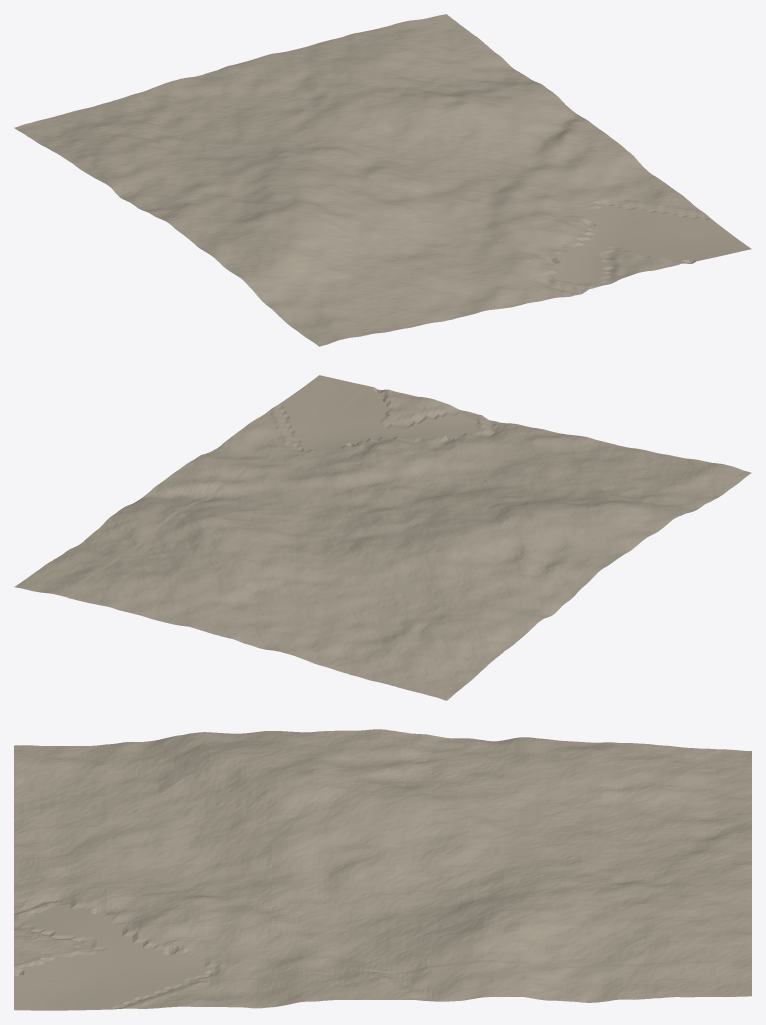
Rendered from reference-terrain-model.glb.
3 views of the same model, one above another, from view 1: azimuth 30°, elevation 25°; view 2: azimuth 150°, elevation 25°; view 3: azimuth 270°, elevation 25° (orthographic). The views are drawn at different scales.
Visible parts, largest first — view 1: canberra-reference-model; view 2: canberra-reference-model; view 3: canberra-reference-model.
Part boxes in pixels (x1,y1,x2,y2): canberra-reference-model: [14, 14, 751, 346]; canberra-reference-model: [14, 375, 751, 700]; canberra-reference-model: [14, 729, 751, 1010].
Size of the model in its own units: 60.83 by 4.53 by 74.35.
